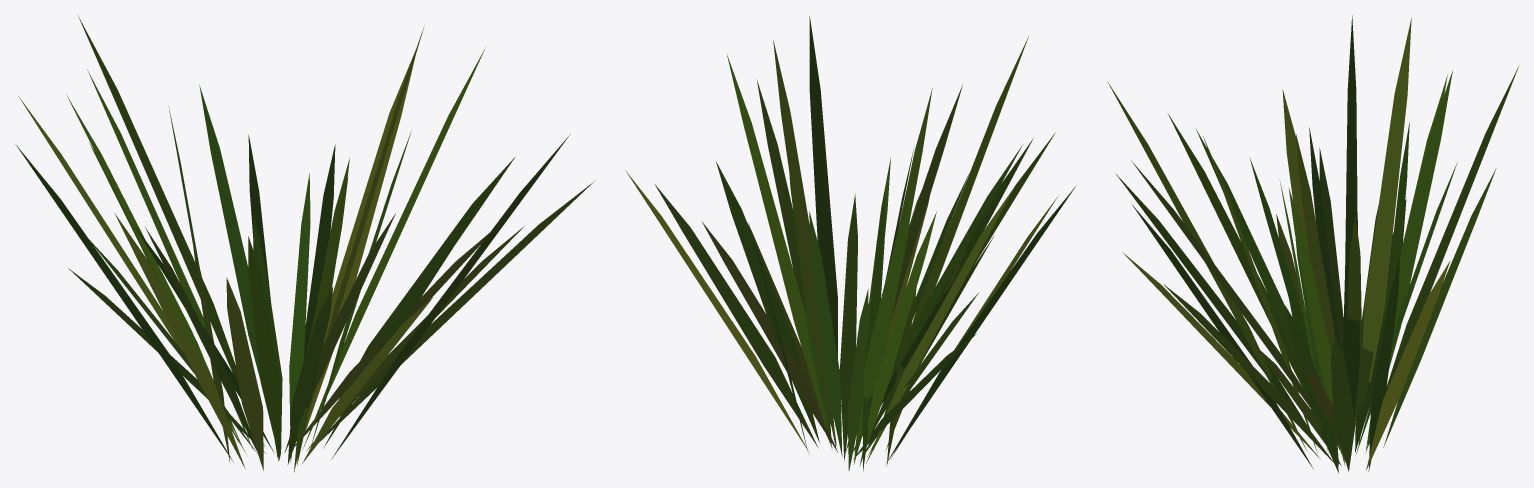
File: SM_GreenGrass.fbx
The picture shows the model from 3 angles, left to right: view 1: azimuth 30°, elevation 25°; view 2: azimuth 150°, elevation 25°; view 3: azimuth 270°, elevation 25°; orthographic projection. The views are drawn at different scales.
Parts seen in each view (by area): view 1: SM_GreenGrass; view 2: SM_GreenGrass; view 3: SM_GreenGrass.
Part boxes in pixels (<box>): SM_GreenGrass: <box>15,16,594,472</box>; SM_GreenGrass: <box>625,16,1076,471</box>; SM_GreenGrass: <box>1107,15,1518,473</box>.
Size of the model in its own units: 0.7633 by 0.6304 by 0.6304.
